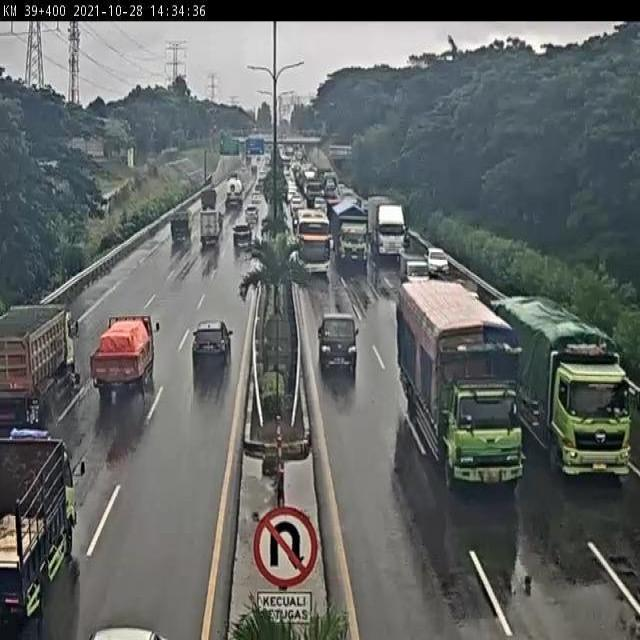big bus: (294, 209, 334, 272)
big truck: (397, 282, 533, 489), (493, 295, 638, 485), (0, 302, 83, 434), (367, 188, 411, 259), (329, 195, 370, 264)
car: (318, 312, 359, 372), (190, 321, 233, 372), (424, 244, 452, 281), (231, 221, 254, 252), (242, 201, 259, 224)
small truck: (0, 435, 87, 628), (88, 310, 159, 402), (167, 208, 192, 244), (197, 212, 220, 251), (196, 187, 217, 216)
